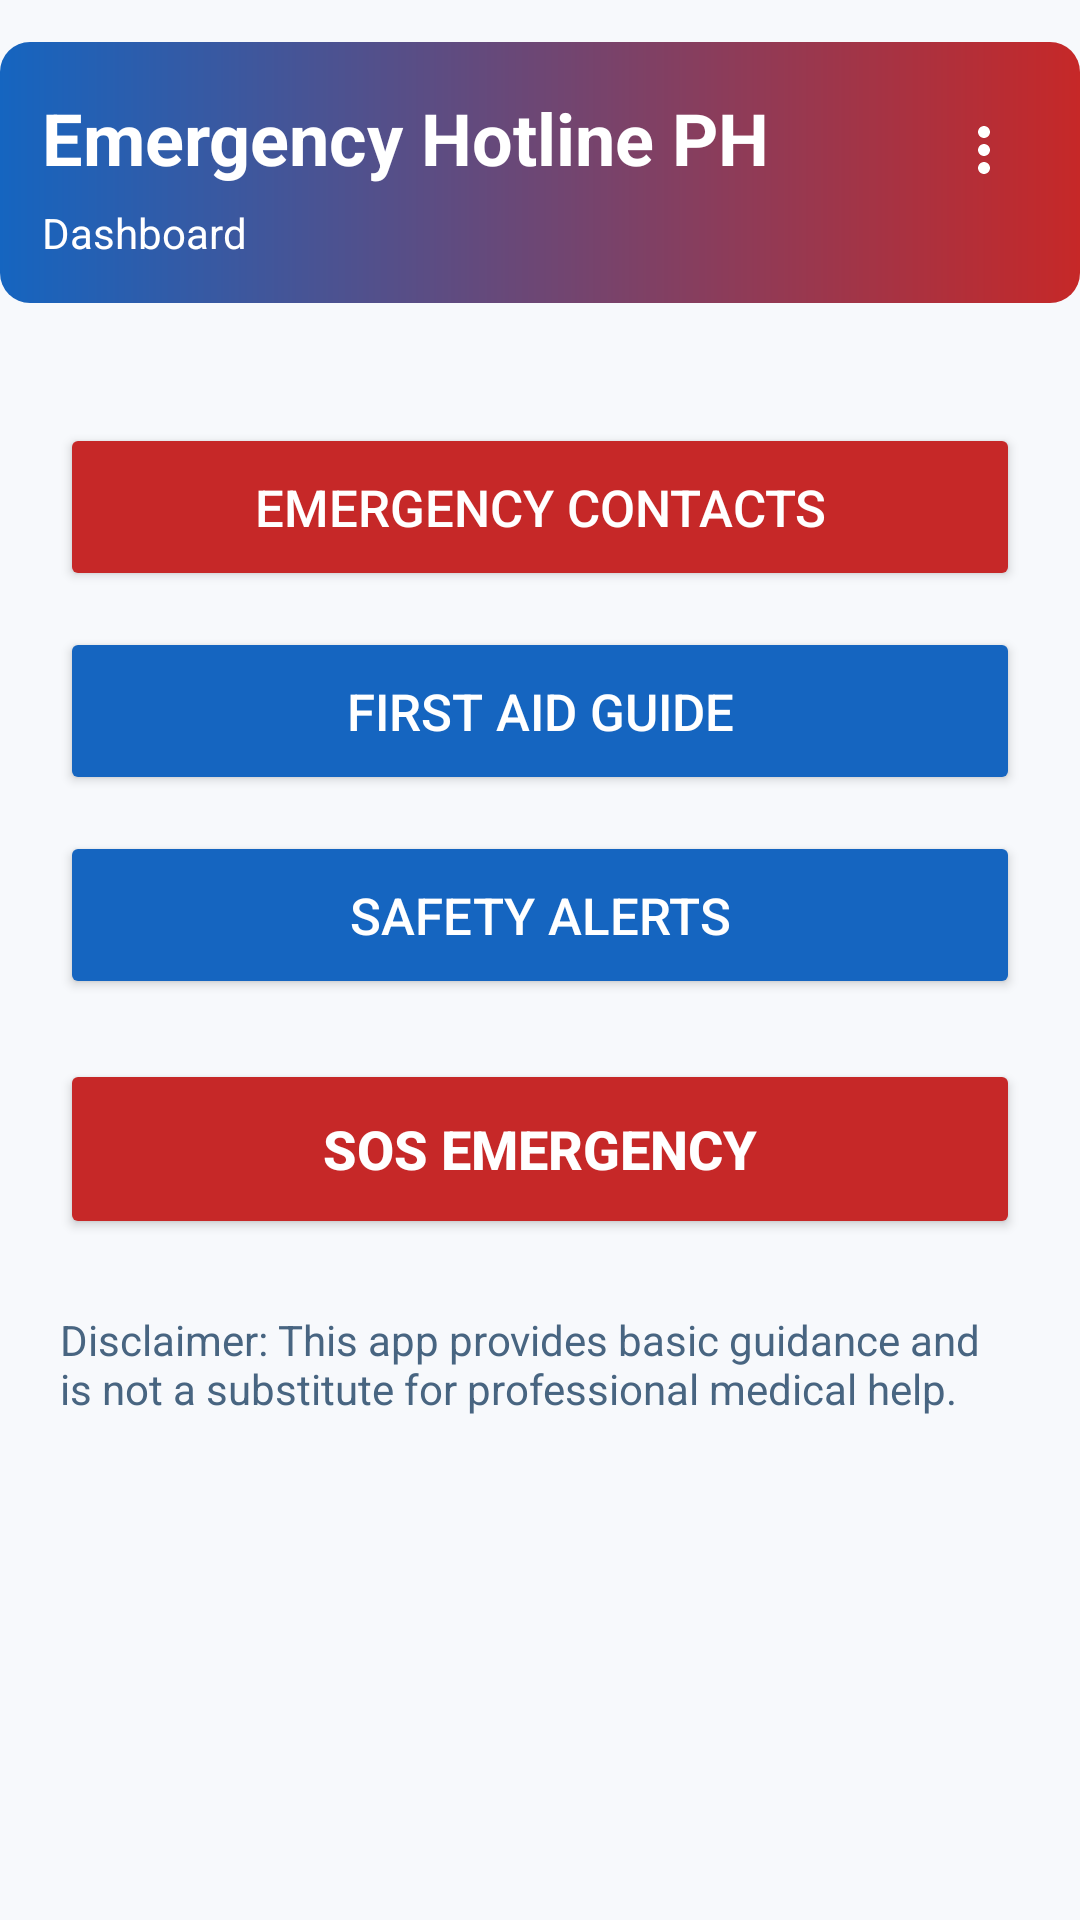

Icon bounding boxes for this 1080 x 1920 phone screenshot, format {"x1": x1, "y1": y1, "x2": x2, "y2": y2}:
More options: {"x1": 978, "y1": 126, "x2": 990, "y2": 174}
